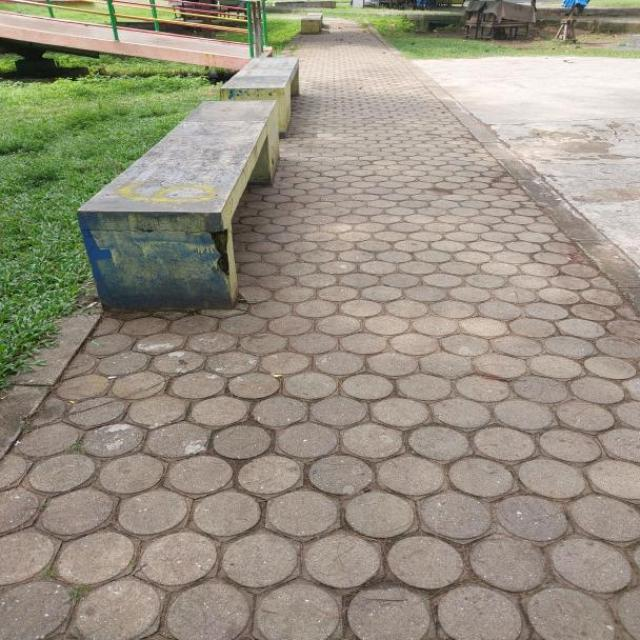bench ahead at: (79, 92, 282, 313)
